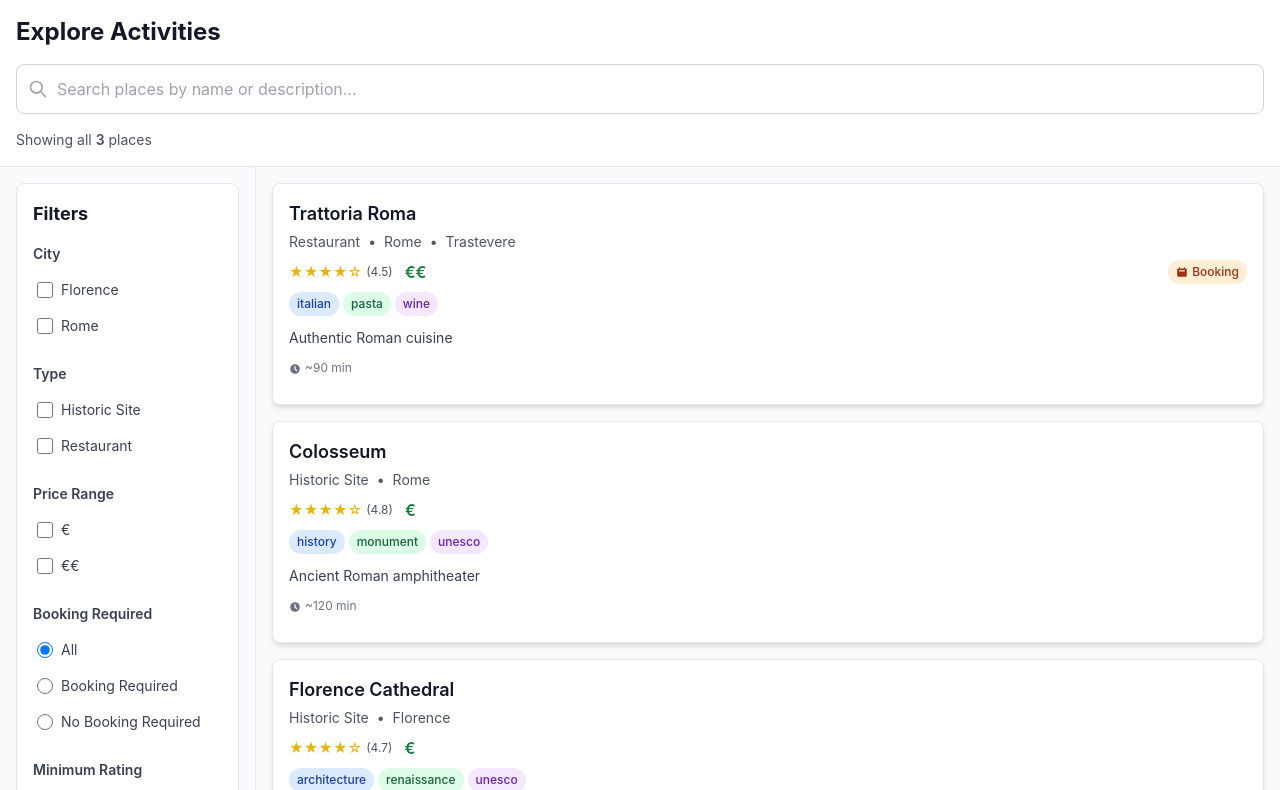
Test case: PlaceExplorer › Search Integration › should filter places based on search query
The image size is (1280, 790).
Expected: the heading "Trattoria Roma" is shown, 289,203 -> 416,224
In the field with placeholder "Search places by name or description...": (640, 89) 16,64 -> 1264,114, type "Cathedral"
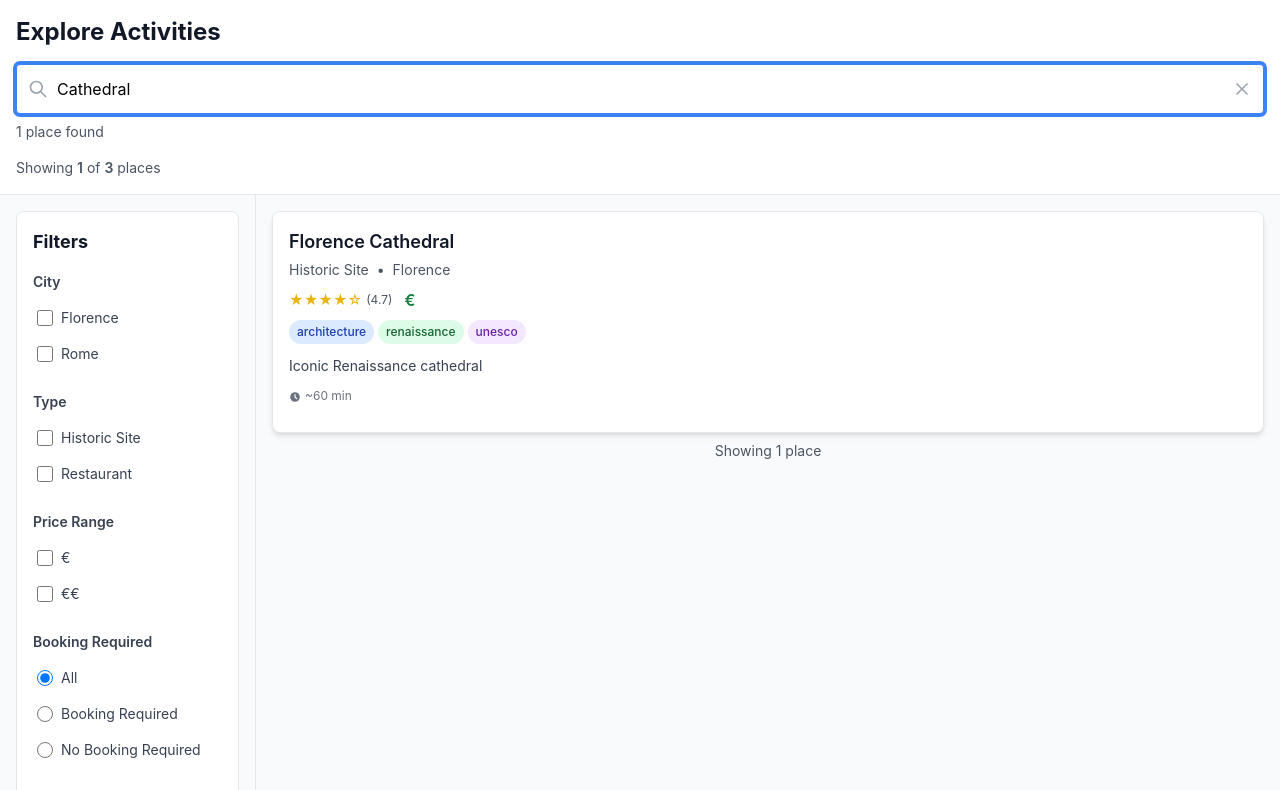
Expected: the heading "Florence Cathedral" is shown, 289,231 -> 454,252
Result: the button "Trattoria Roma" is gone
Result: the button "Colosseum" is gone
